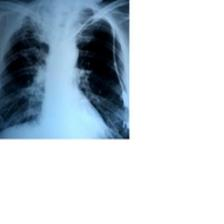tuberculosis: (0, 0, 128, 139)
